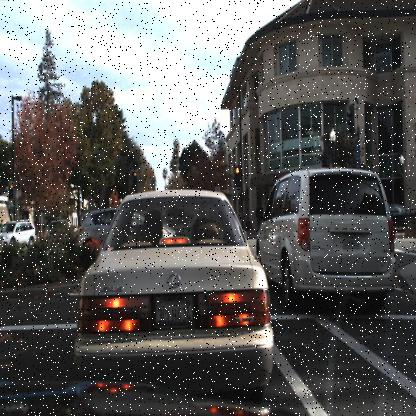car: (76, 185, 270, 385), (255, 164, 396, 307), (0, 219, 38, 248), (0, 218, 36, 246), (387, 199, 413, 235)
trafficLight-Red: (233, 165, 241, 188), (8, 181, 15, 200), (131, 169, 138, 188)
